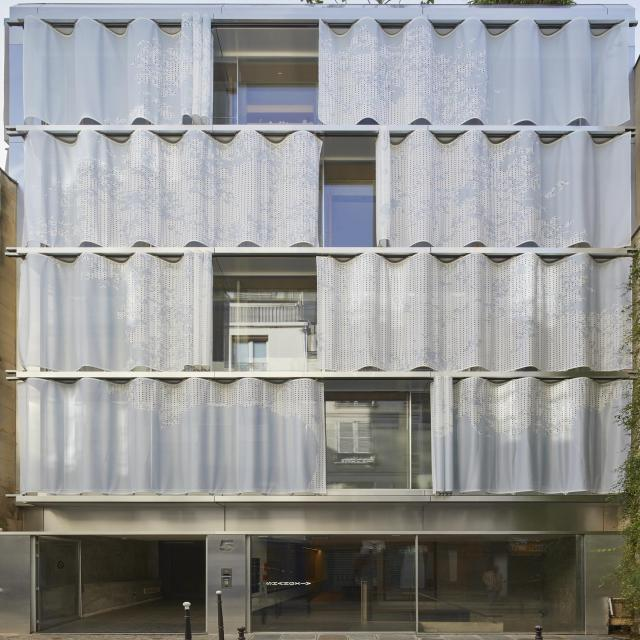door: (244, 532, 585, 633)
window: (35, 535, 209, 634), (209, 259, 317, 372), (325, 381, 433, 491), (208, 25, 323, 126), (316, 134, 377, 246)
